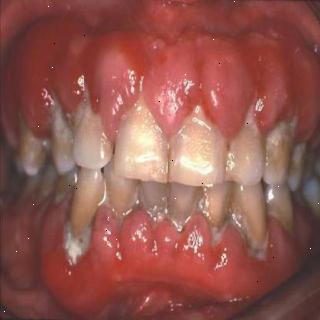Gum Swelling: (42, 190, 295, 312), (22, 68, 310, 147)
calculus: (114, 100, 164, 152), (58, 214, 100, 275), (179, 113, 223, 165), (233, 205, 267, 268), (261, 119, 297, 177), (200, 190, 229, 250), (100, 178, 142, 218), (135, 188, 172, 230), (266, 194, 296, 239), (166, 196, 198, 237), (41, 79, 72, 121), (72, 94, 100, 138), (13, 121, 39, 165), (240, 106, 258, 146), (293, 139, 307, 179), (56, 173, 72, 204), (42, 174, 59, 200)
